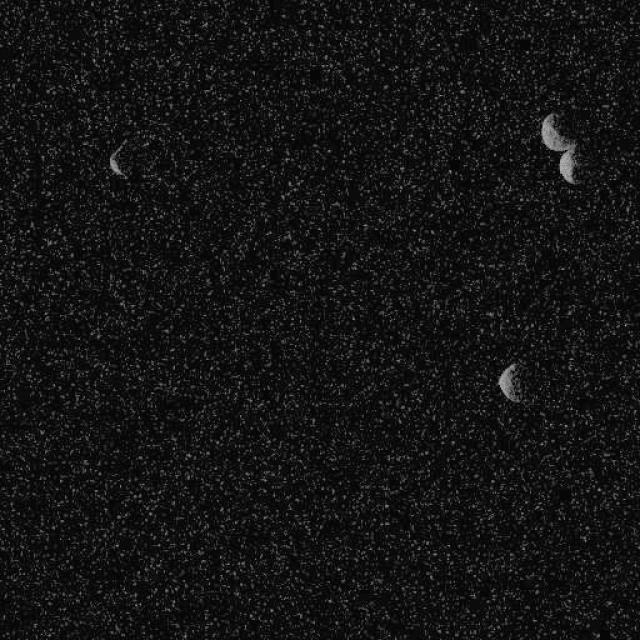D2: (540, 110, 576, 152), (496, 361, 525, 404), (108, 138, 130, 178), (558, 146, 578, 184)
